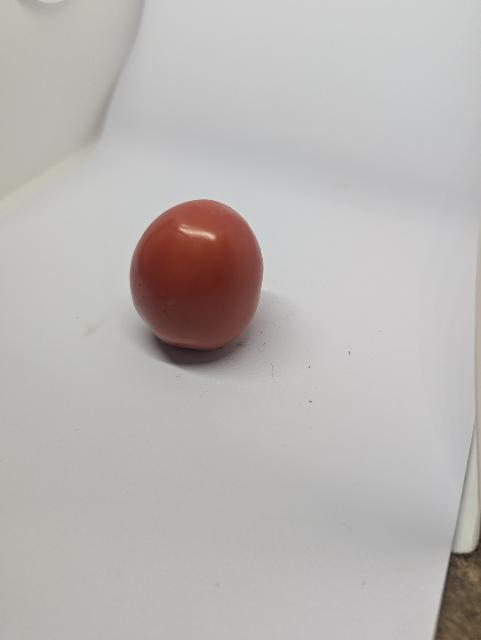red: (121, 193, 274, 359)
